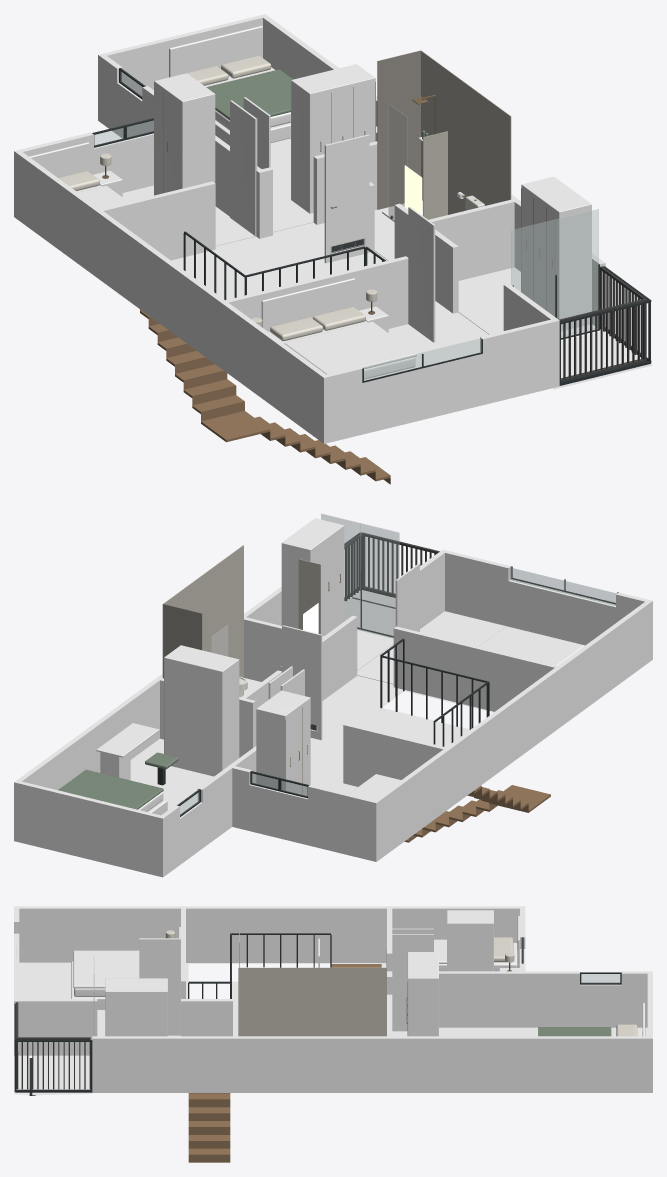
The model's file is interior-lt2.glb.
3 views of the same model, one above another, from view 1: azimuth 30°, elevation 25°; view 2: azimuth 150°, elevation 25°; view 3: azimuth 270°, elevation 25° (orthographic). The views are drawn at different scales.
Parts seen in each view (by area): view 1: ARCH_LT2_cut_L2_WallUnion__WEB, BV_L2_EastStone__WEB, MasterWardrobe__WEB, RearWardrobe__WEB, ARCH_LT2_cut_L2_Floor_Reference_04__WEB, Bedroom2Wardrobe__WEB, ARCH_LT2_cut_L2_Wall_219__WEB, BV_L2_ShowerBack__WEB, D09_WC__WEB, D12_Glass1__WEB, L2_Master_duvet__WEB, D12_Glass0__WEB (+25 smaller); view 2: ARCH_LT2_cut_L2_WallUnion__WEB, RearWardrobe__WEB, ARCH_LT2_cut_L2_Floor_Reference_04__WEB, MasterWardrobe__WEB, Bedroom2Wardrobe__WEB, BV_L2_EastStone__WEB, ARCH_LT2_cut_L2_Wall_219__WEB, D12_Glass0__WEB, ARCH_LT2_cut_L2_Wall_220__WEB, D09_WC__WEB, L2_MasterFinish__WEB, L2_RearBedroomFinish__WEB (+15 smaller); view 3: ARCH_LT2_cut_L2_WallUnion__WEB, BV_L2_EastStone__WEB, MasterWardrobe__WEB, Bedroom2Wardrobe__WEB, RearWardrobe__WEB, D11_Master__WEB, L2_Master_duvet__WEB, L2_MasterFinish__WEB, D08_RearBedroom__WEB, ARCH_LT2_cut_BR_BalconyFinishRear__WEB, ARCH_LT2_cut_L2_Wall_218__WEB, L2_RearBedroomFinish__WEB (+6 smaller).
Part boxes in pixels (left/top/right/bottom): ARCH_LT2_cut_L2_WallUnion__WEB: left=14, top=14, right=605, bottom=443; BV_L2_EastStone__WEB: left=421, top=50, right=511, bottom=214; MasterWardrobe__WEB: left=521, top=176, right=591, bottom=331; RearWardrobe__WEB: left=291, top=64, right=375, bottom=213; ARCH_LT2_cut_L2_Floor_Reference_04__WEB: left=171, top=222, right=451, bottom=317; Bedroom2Wardrobe__WEB: left=154, top=73, right=215, bottom=195; ARCH_LT2_cut_L2_Wall_219__WEB: left=362, top=351, right=482, bottom=434; BV_L2_ShowerBack__WEB: left=377, top=50, right=420, bottom=209; D09_WC__WEB: left=324, top=134, right=369, bottom=263; D12_Glass1__WEB: left=555, top=209, right=598, bottom=337; L2_Master_duvet__WEB: left=284, top=321, right=416, bottom=374; D12_Glass0__WEB: left=511, top=220, right=554, bottom=316; ARCH_LT2_cut_L2_WallUnion__WEB: left=14, top=549, right=652, bottom=877; RearWardrobe__WEB: left=164, top=645, right=239, bottom=776; ARCH_LT2_cut_L2_Floor_Reference_04__WEB: left=310, top=675, right=493, bottom=783; MasterWardrobe__WEB: left=281, top=518, right=344, bottom=635; Bedroom2Wardrobe__WEB: left=256, top=690, right=310, bottom=795; BV_L2_EastStone__WEB: left=162, top=545, right=243, bottom=677; ARCH_LT2_cut_L2_Wall_219__WEB: left=508, top=579, right=615, bottom=645; D12_Glass0__WEB: left=360, top=523, right=399, bottom=638; ARCH_LT2_cut_L2_Wall_220__WEB: left=249, top=784, right=307, bottom=845; D09_WC__WEB: left=282, top=625, right=322, bottom=739; L2_MasterFinish__WEB: left=357, top=611, right=584, bottom=684; L2_RearBedroomFinish__WEB: left=130, top=738, right=213, bottom=813; ARCH_LT2_cut_L2_WallUnion__WEB: left=14, top=906, right=652, bottom=1092; BV_L2_EastStone__WEB: left=238, top=967, right=386, bottom=1036; MasterWardrobe__WEB: left=105, top=978, right=167, bottom=1036; Bedroom2Wardrobe__WEB: left=447, top=910, right=493, bottom=971; RearWardrobe__WEB: left=407, top=952, right=438, bottom=1036; D11_Master__WEB: left=139, top=938, right=180, bottom=1035; L2_Master_duvet__WEB: left=73, top=950, right=139, bottom=988; L2_MasterFinish__WEB: left=19, top=962, right=180, bottom=1036; D08_RearBedroom__WEB: left=392, top=934, right=433, bottom=1031; ARCH_LT2_cut_BR_BalconyFinishRear__WEB: left=32, top=1055, right=92, bottom=1095; ARCH_LT2_cut_L2_Wall_218__WEB: left=580, top=984, right=621, bottom=1027; L2_RearBedroomFinish__WEB: left=392, top=1027, right=647, bottom=1036.
Bounding box in the file's own units: 6 × 5.4 × 12.25.
